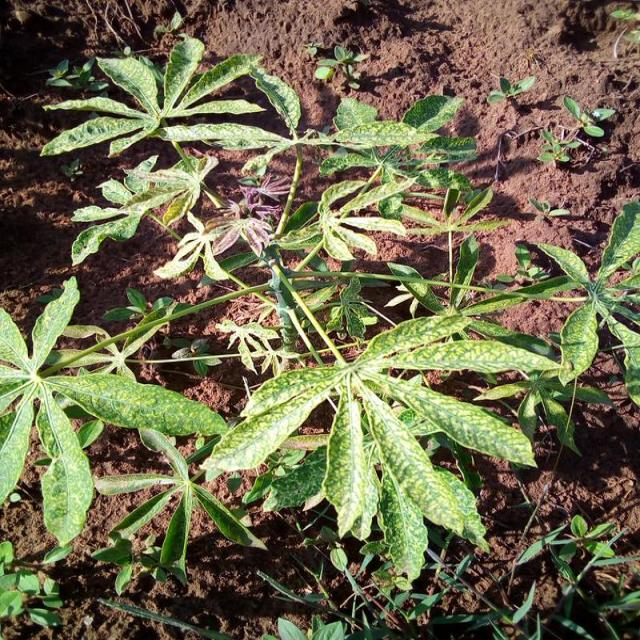cassava leaf: (28, 33, 632, 591)
